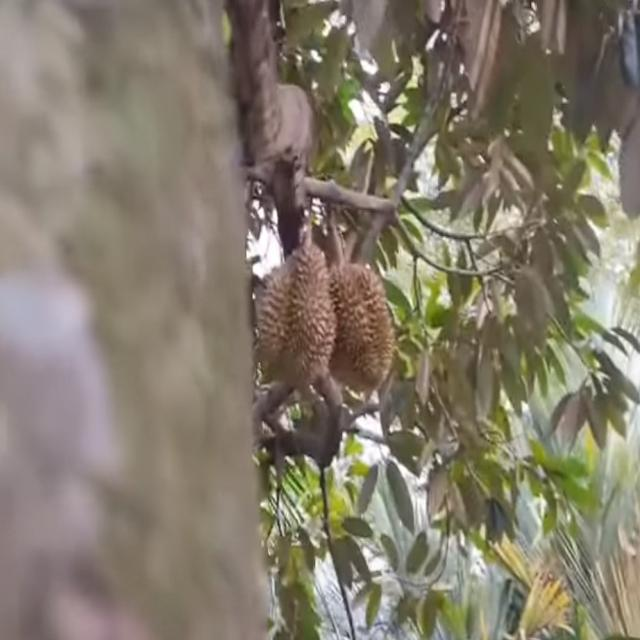mature: (254, 242, 338, 384), (324, 261, 398, 400)
